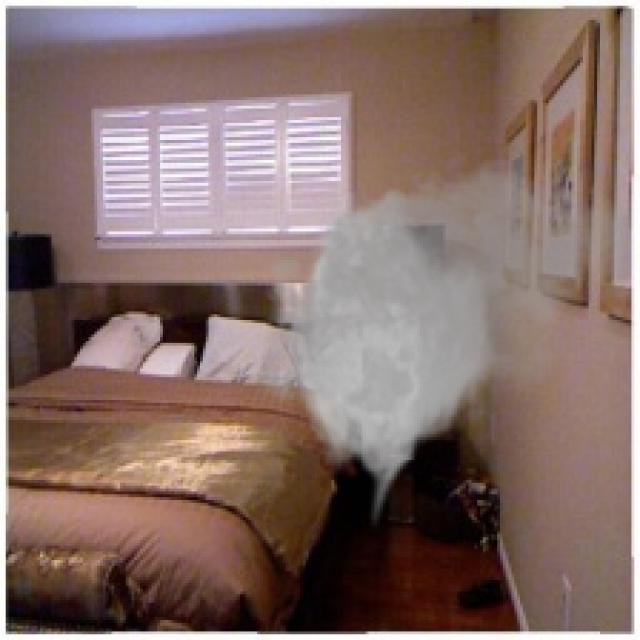smoke: (243, 148, 634, 532)
